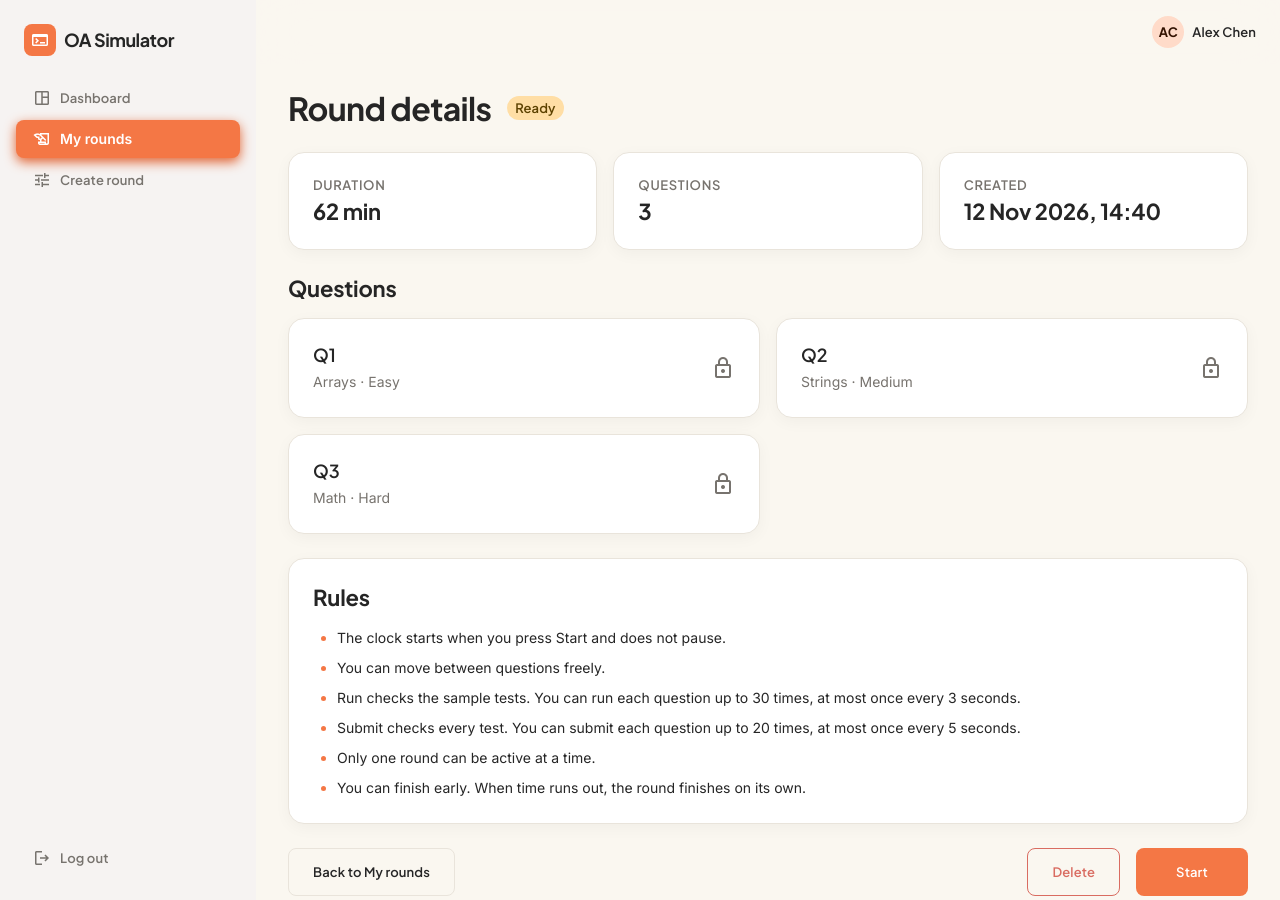
Test: S7 Start › ROUND_NOT_READY when E8 still says READY shows a generic banner, and Start can be tried again
Click the button "Start" at (1192, 872), box [1136, 848, 1248, 896]
(page scrolled)
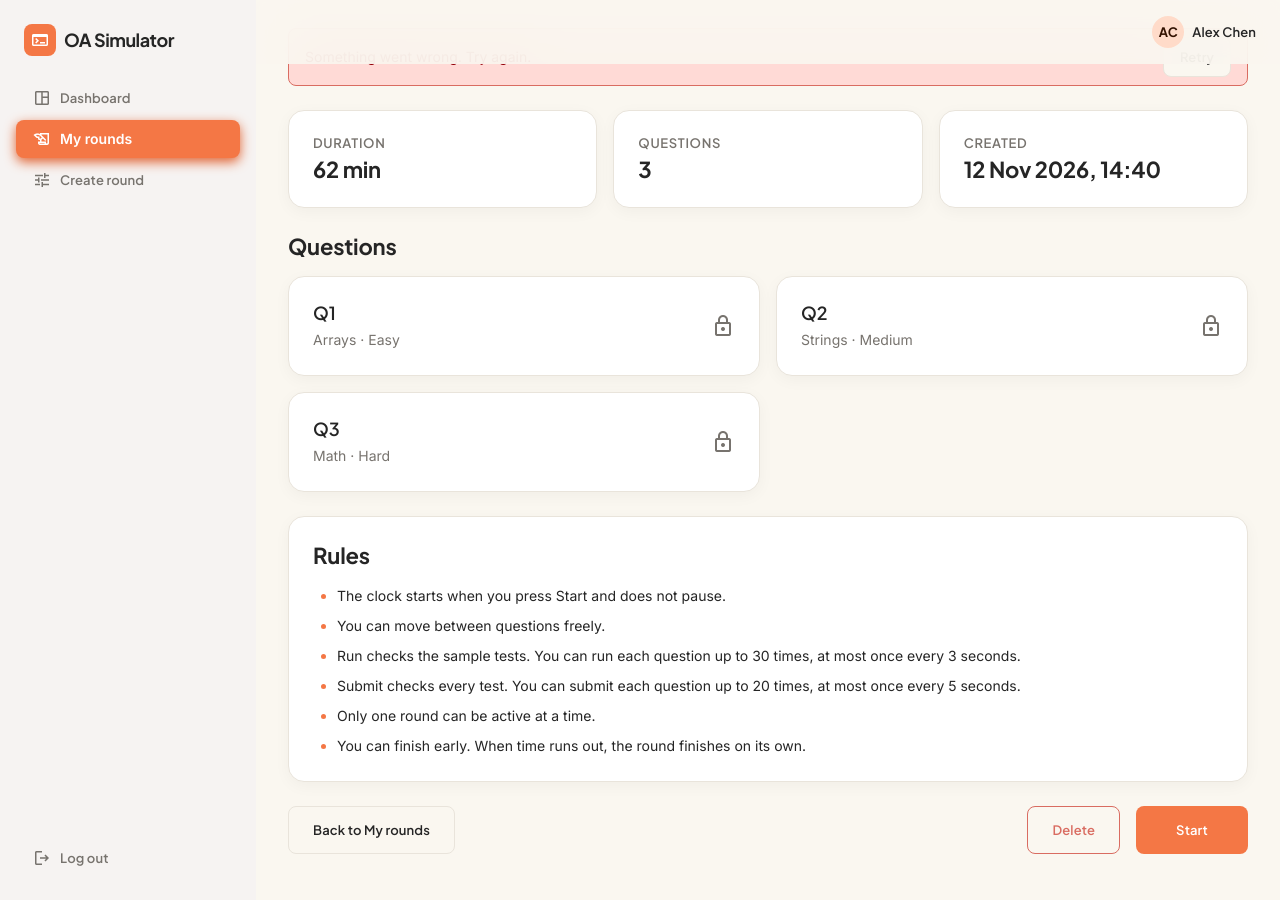
Expected: the button "Start" is enabled, [1136, 806, 1248, 854]
Expected: the message shows "Something went wrong. Try again.", [305, 48, 531, 65]
